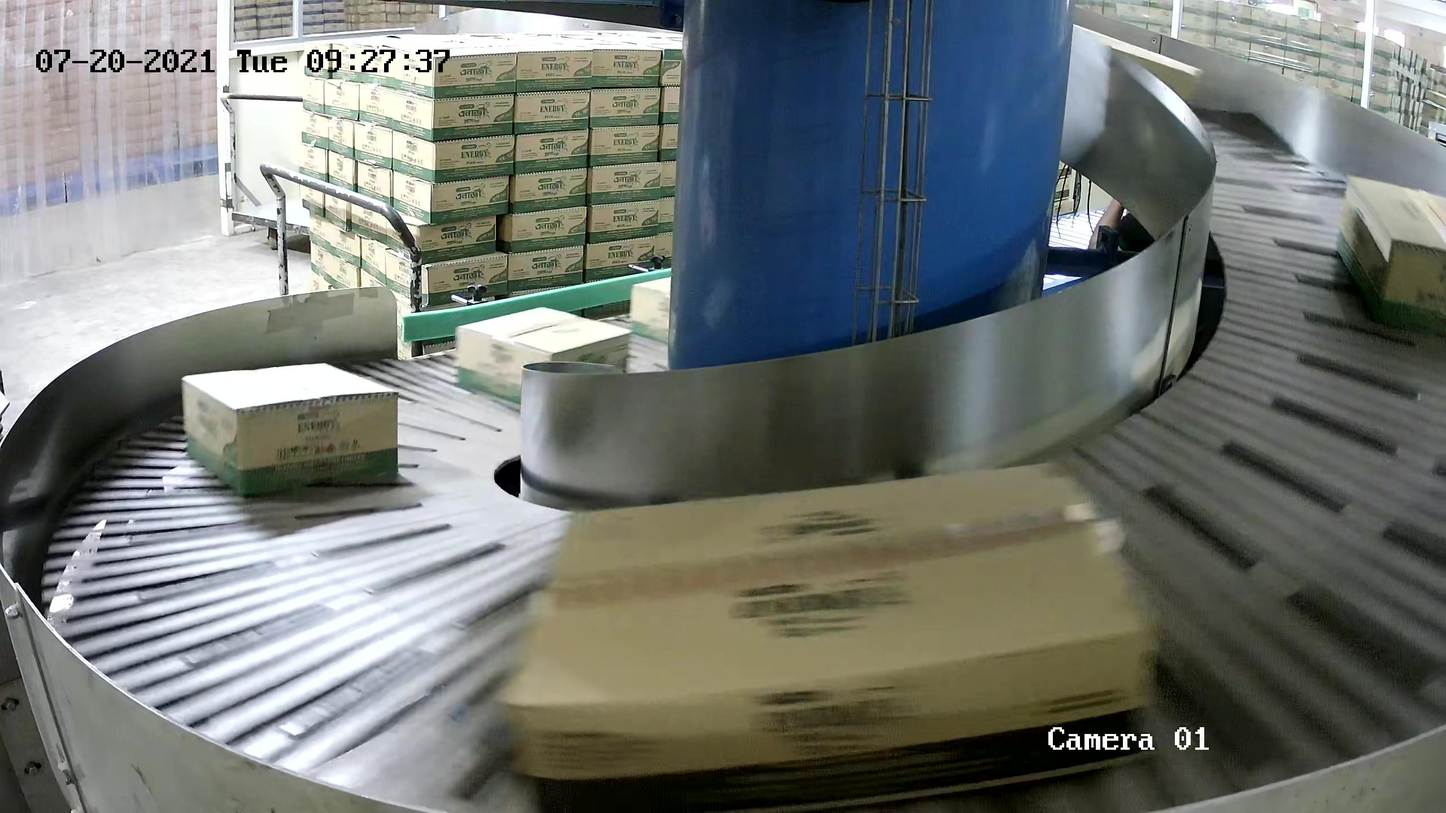Box: (492, 458, 1164, 813), (180, 361, 399, 498), (1334, 173, 1446, 332), (455, 306, 634, 404), (629, 276, 671, 343)
